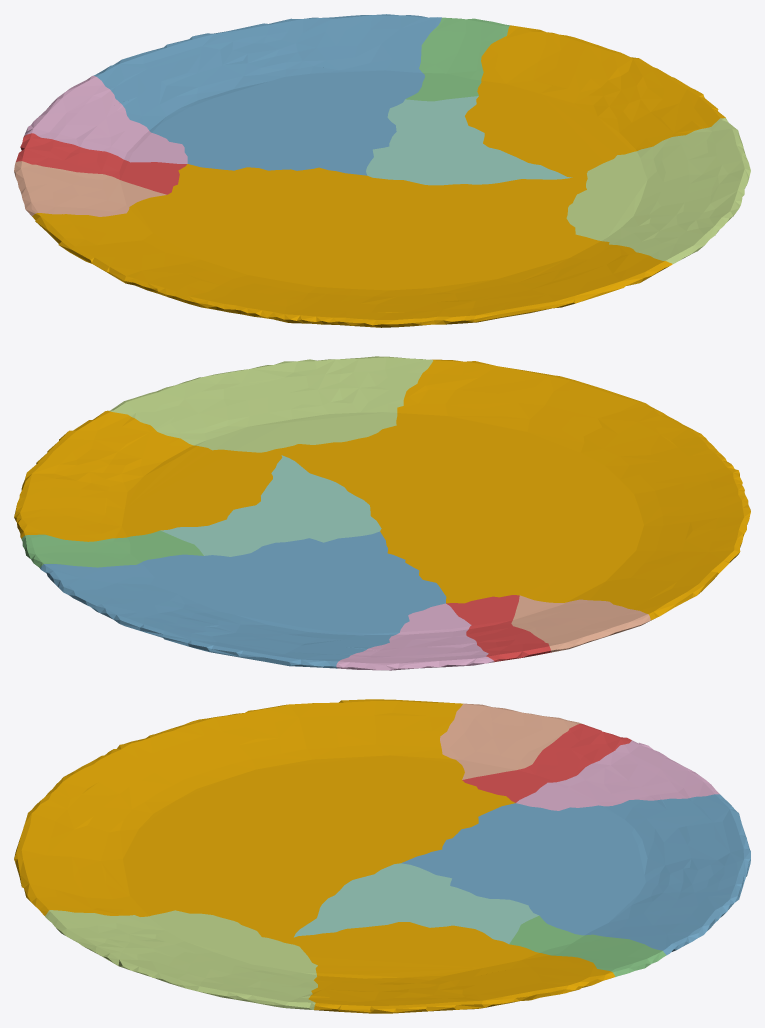
The model's file is fractured_9_8pcs.glb.
The picture shows the model from 3 angles, top to bottom: view 1: azimuth 30°, elevation 25°; view 2: azimuth 150°, elevation 25°; view 3: azimuth 270°, elevation 25°; orthographic projection.
Visible parts, largest first — view 1: piece_0.obj, piece_2.obj, piece_5.obj, piece_4.obj, piece_6.obj, piece_7.obj, piece_3.obj, piece_1.obj; view 2: piece_0.obj, piece_2.obj, piece_5.obj, piece_4.obj, piece_6.obj, piece_7.obj, piece_3.obj, piece_1.obj; view 3: piece_0.obj, piece_2.obj, piece_5.obj, piece_4.obj, piece_6.obj, piece_7.obj, piece_1.obj, piece_3.obj.
Part boxes in pixels (x1,y1,x2,y2): piece_0.obj: (32, 25, 725, 327); piece_2.obj: (94, 14, 441, 175); piece_5.obj: (566, 118, 750, 263); piece_4.obj: (366, 96, 572, 185); piece_6.obj: (24, 75, 187, 163); piece_7.obj: (14, 161, 166, 216); piece_3.obj: (405, 17, 509, 101); piece_1.obj: (16, 133, 186, 194); piece_0.obj: (14, 359, 750, 620); piece_2.obj: (40, 531, 446, 668); piece_5.obj: (108, 356, 432, 452); piece_4.obj: (160, 455, 381, 556); piece_6.obj: (336, 603, 494, 670); piece_7.obj: (511, 595, 650, 652); piece_3.obj: (21, 530, 203, 567); piece_1.obj: (446, 595, 551, 662); piece_0.obj: (14, 699, 615, 1013); piece_2.obj: (401, 794, 750, 955); piece_5.obj: (45, 910, 317, 1009); piece_4.obj: (294, 863, 538, 943); piece_6.obj: (516, 740, 719, 810); piece_7.obj: (440, 703, 581, 779); piece_1.obj: (462, 724, 631, 802); piece_3.obj: (509, 915, 666, 976).
Size of the model in its own units: 1 by 0.0296 by 0.998.
